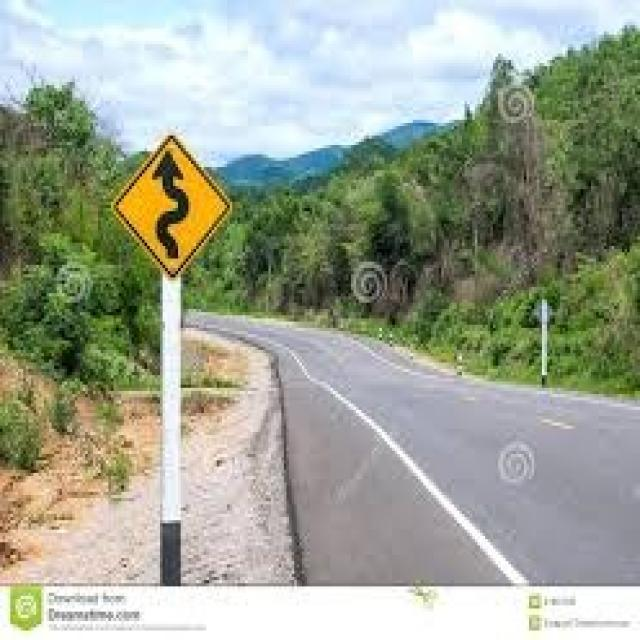left_sharp_curve: (106, 128, 237, 278)
